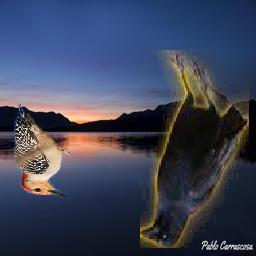Crow: (141, 50, 250, 248)
Woodpecker: (15, 105, 70, 200)
